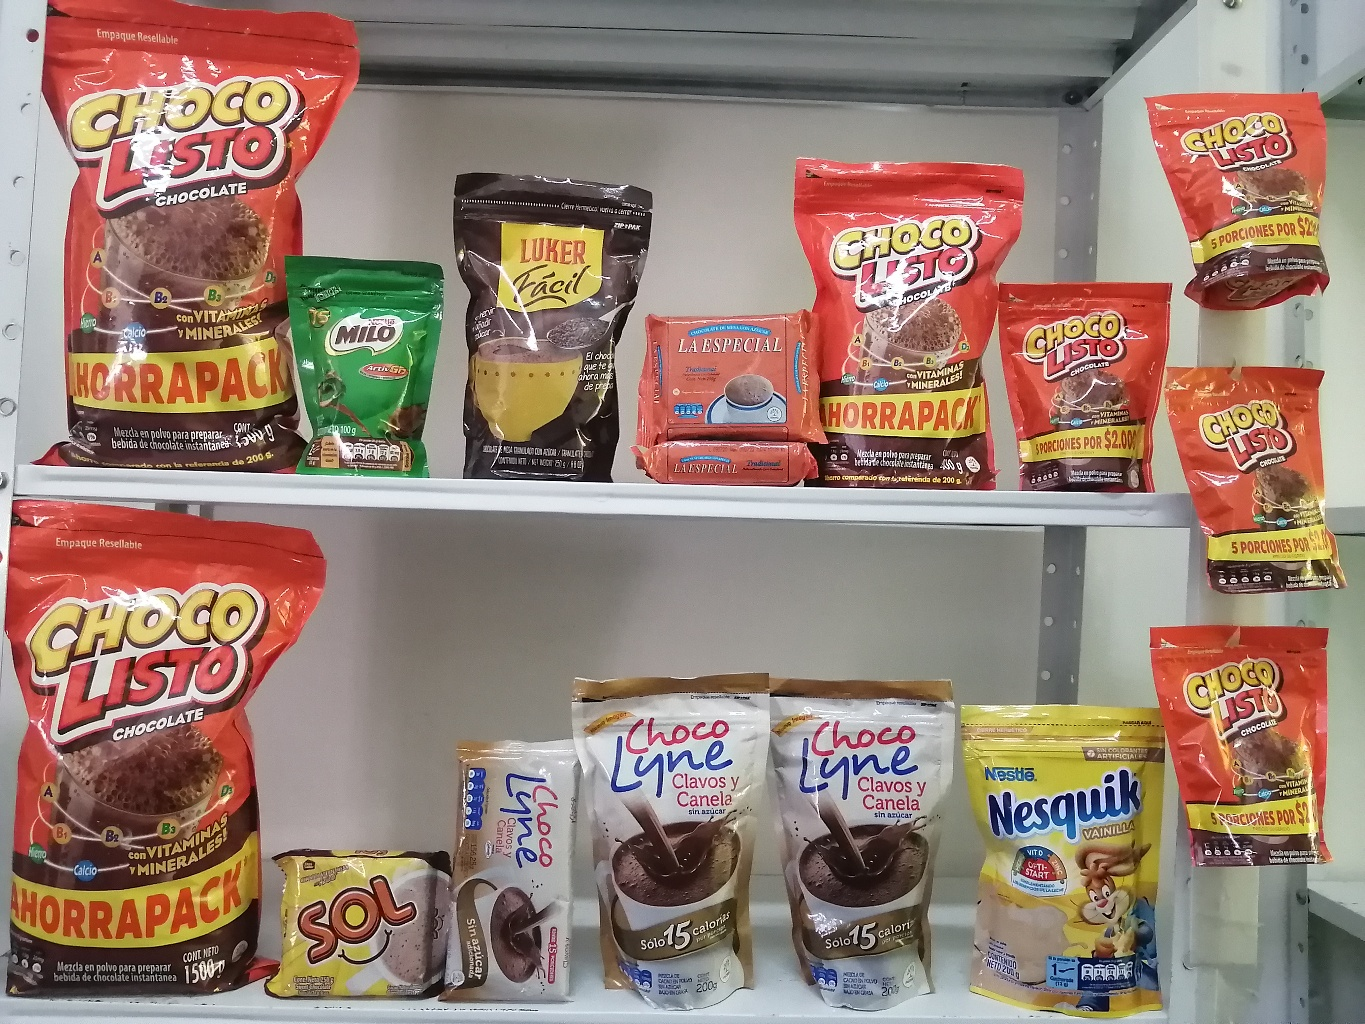COL0170103DYP1,500: (17, 490, 357, 1005)
COL0170103DYP10000: (1128, 76, 1326, 303)
COL0170103DYP40000: (793, 152, 1013, 490)
COL0170203DYP10000: (262, 252, 428, 468)
COL0170306DYP20000: (962, 697, 1167, 1024)
